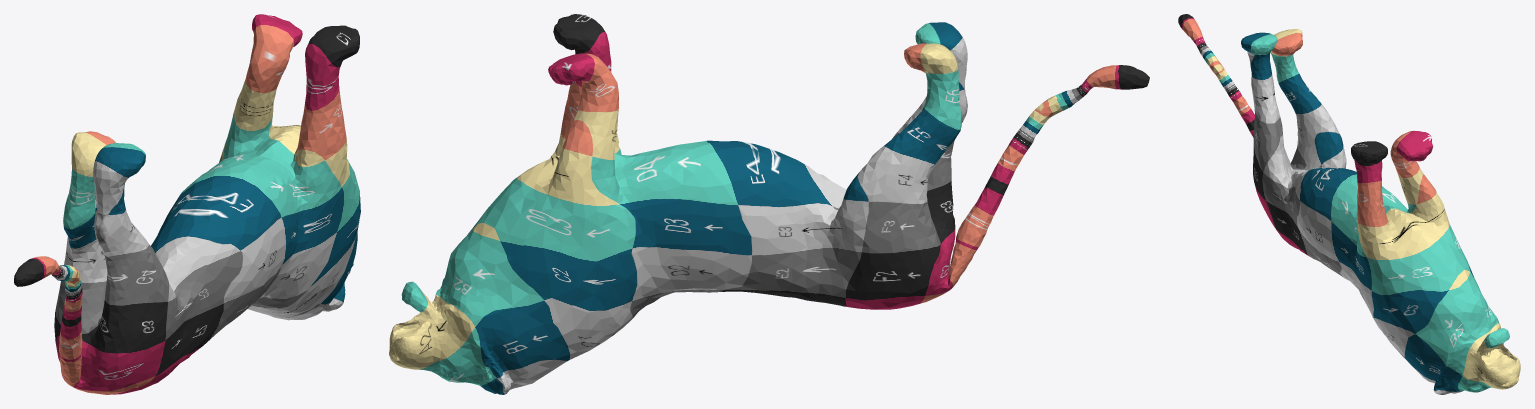
The model's file is horse_01-lion_02.obj.
3 views of the same model, side by side, from view 1: azimuth 30°, elevation 25°; view 2: azimuth 150°, elevation 25°; view 3: azimuth 270°, elevation 25° (orthographic). The views are drawn at different scales.
Parts seen in each view (by area): view 1: horse_01-lion_02_export; view 2: horse_01-lion_02_export; view 3: horse_01-lion_02_export.
Boxes of the visible parts, x1,y1,x2,y2 form: horse_01-lion_02_export: [14, 14, 360, 394]; horse_01-lion_02_export: [389, 14, 1149, 394]; horse_01-lion_02_export: [1178, 14, 1520, 394].
Bounding box in the file's own units: 1.04 × 0.6121 × 0.7757.
